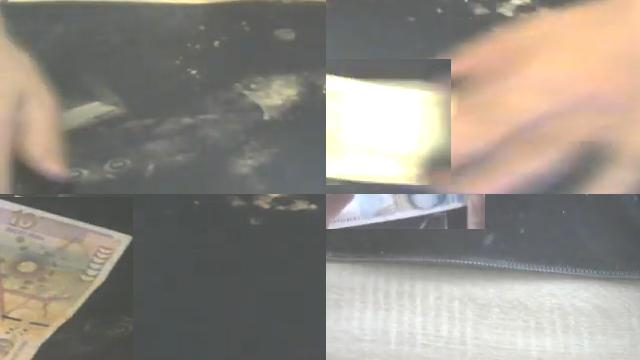10leva: (0, 197, 133, 360), (326, 73, 451, 185)
20leva: (329, 194, 466, 229)
